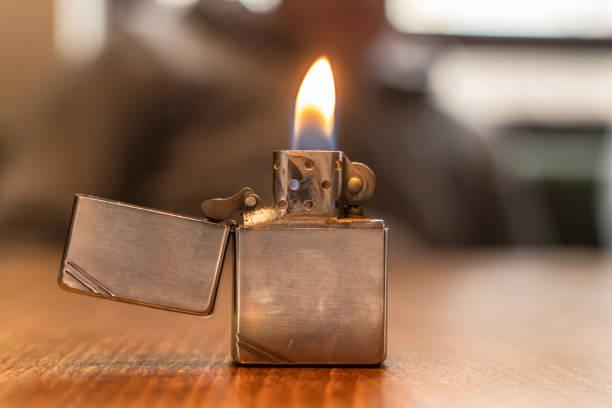Fire: (292, 53, 342, 151)
